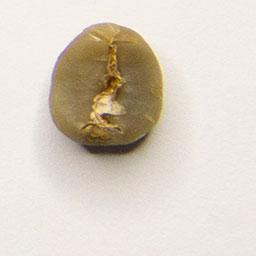premium: (45, 20, 167, 151)
